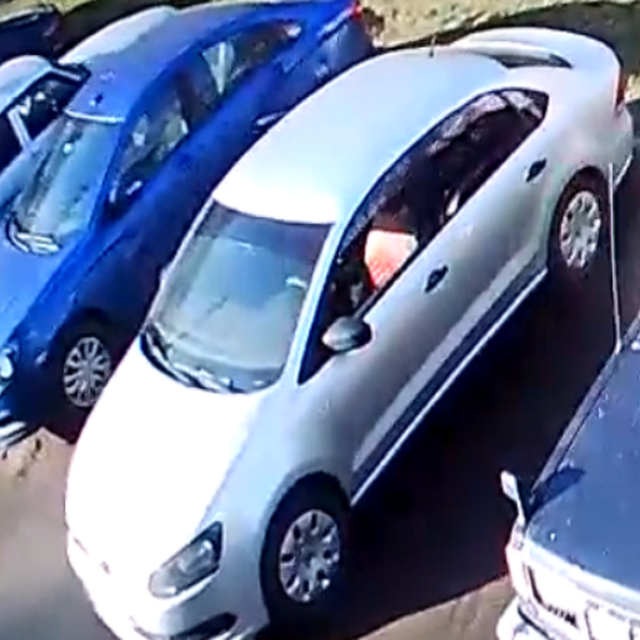car: (64, 23, 636, 640), (1, 1, 372, 408), (1, 1, 170, 237)
